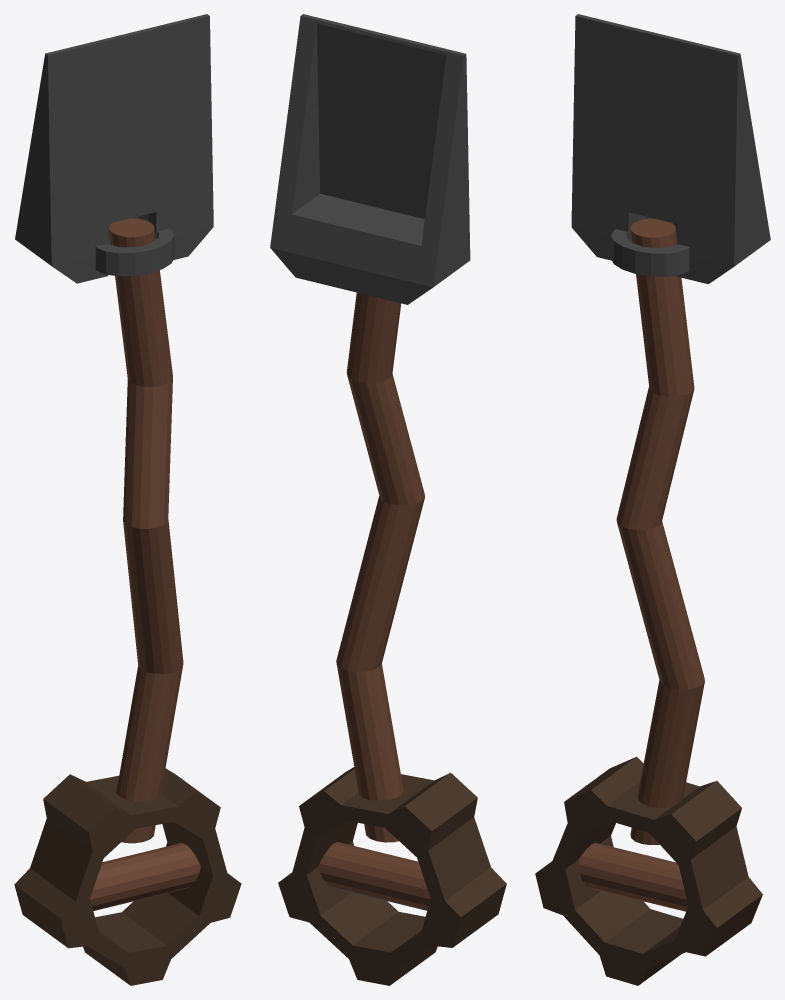
The model's file is pelle1-1.fbx.
3 renders of one model, left to right at view 1: azimuth 30°, elevation 25°; view 2: azimuth 150°, elevation 25°; view 3: azimuth 330°, elevation 25°, orthographic.
Visible parts, largest first — view 1: manche; view 2: manche; view 3: manche.
Part boxes in pixels (x1,y1,x2,y2): manche: (14,14,241,985); manche: (270,14,506,985); manche: (535,14,770,985).
Bounding box in the file's own units: 189 × 920 × 110.
